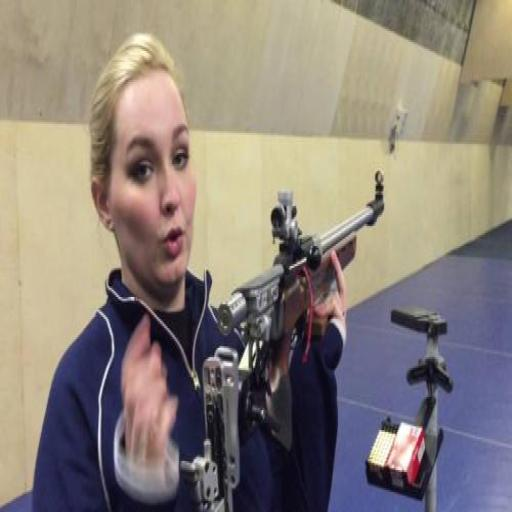shooting: (30, 31, 352, 510)
